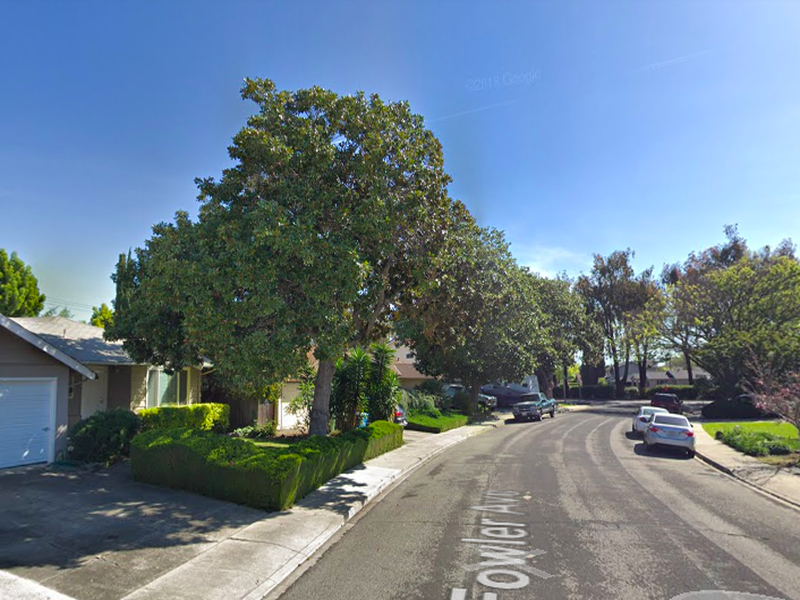tree: (105, 74, 469, 448)
